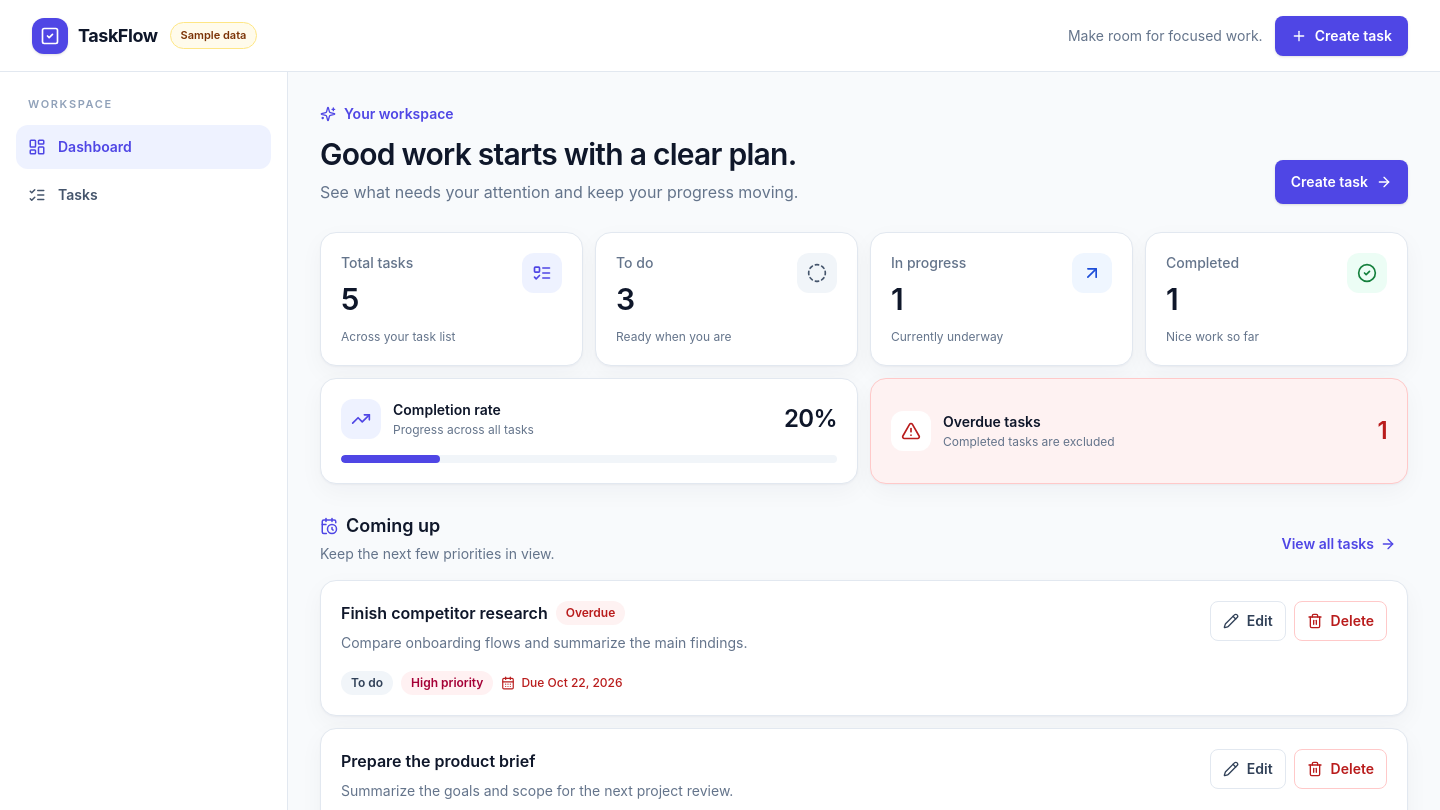
Test case: TaskFlow application › searches by title, applies combined filters, and clears them
expect the heading "Good work starts with a clear plan." is shown: met, box x1=320 y1=136 x2=798 y2=172
Click the link "Tasks" at point(63, 194), box x1=28 y1=186 x2=98 y2=204
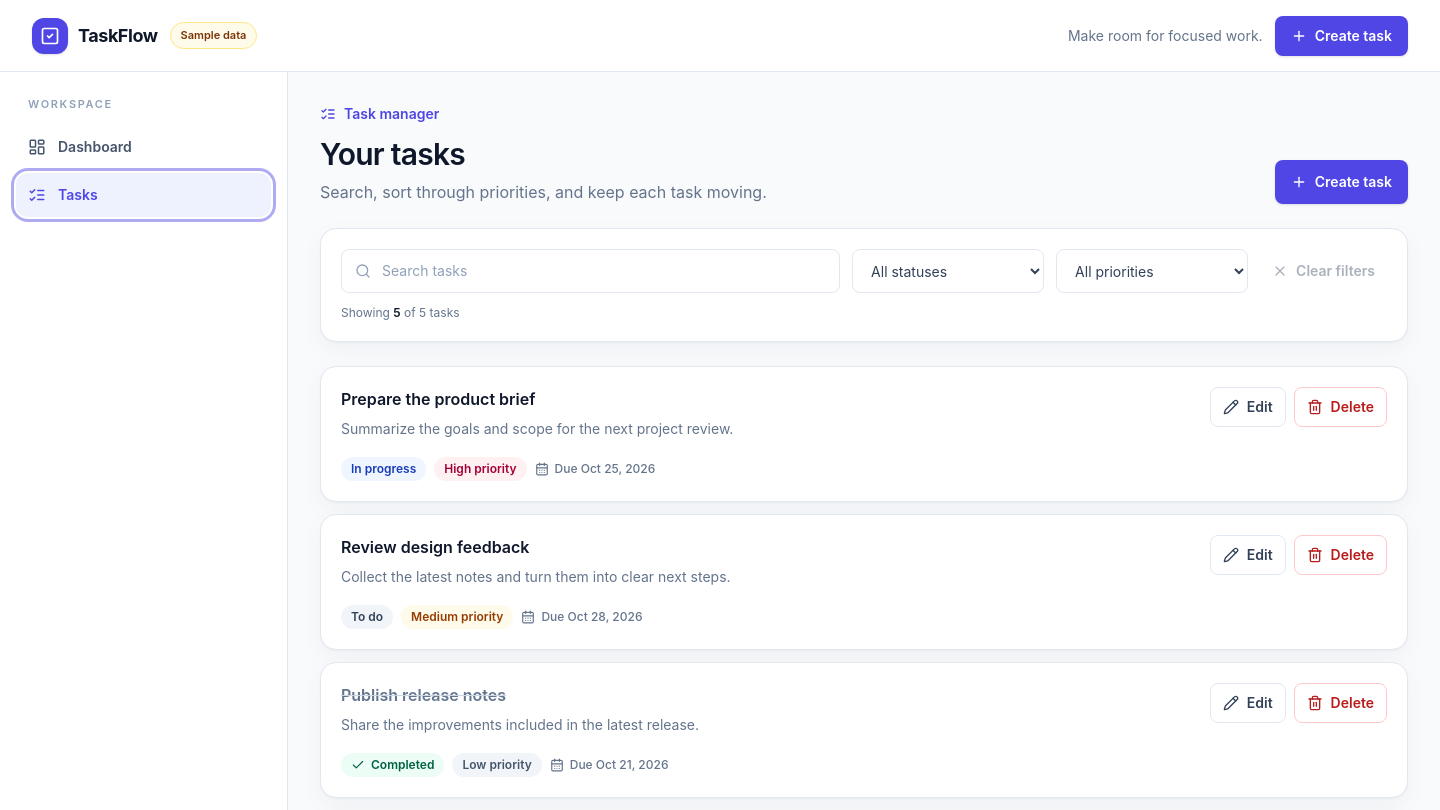
Type "research" into the search field named "Search tasks by title" at point(591, 271), box x1=341 y1=249 x2=840 y2=293
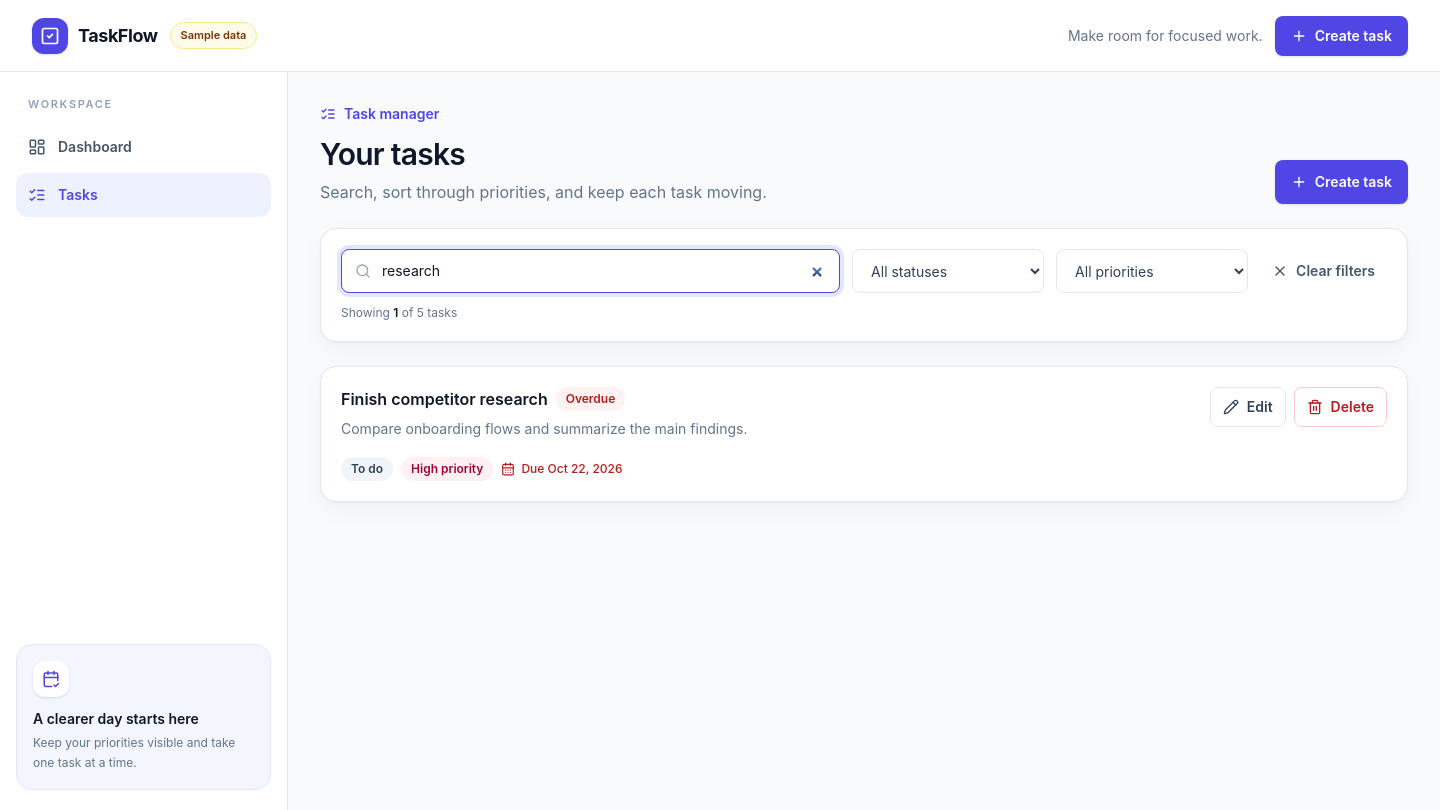
Select "To do" in the 1st dropdown named "Filter by status" at point(948, 271), box x1=852 y1=249 x2=1044 y2=293
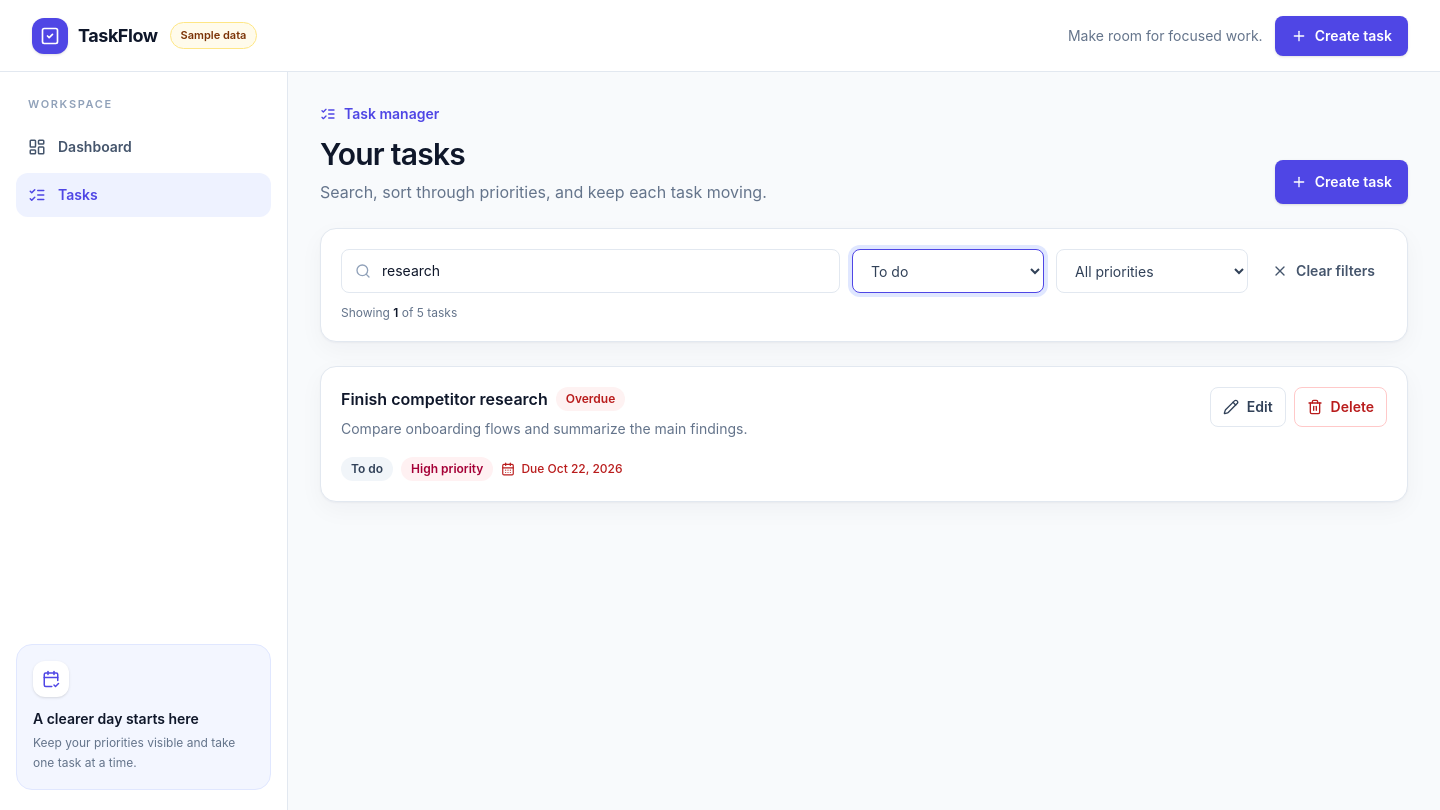
Select "High priority" in the 2nd dropdown named "Filter by priority" at point(1152, 271), box x1=1056 y1=249 x2=1248 y2=293
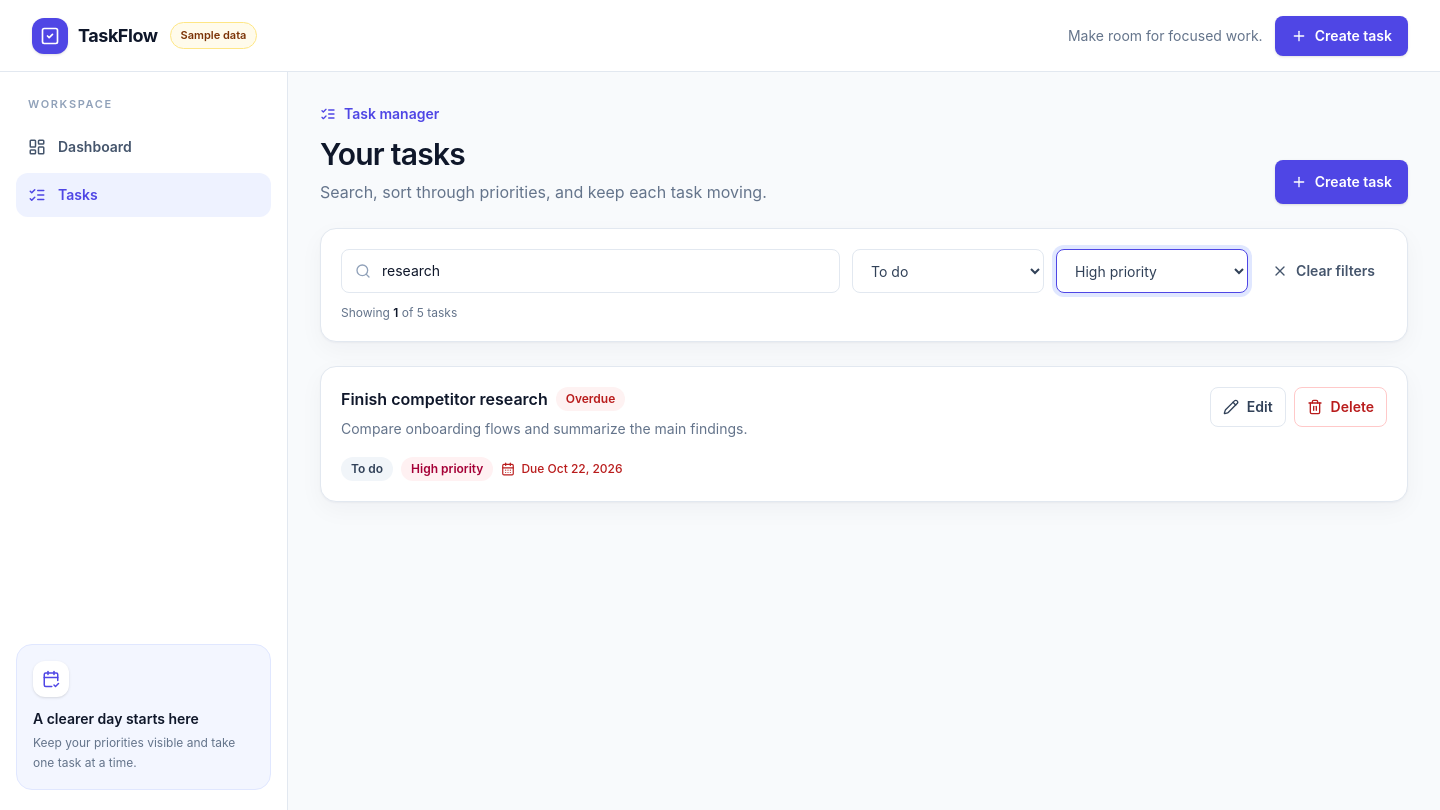
expect the heading "Finish competitor research" is shown: met, box x1=341 y1=387 x2=548 y2=411
expect the heading "Review design feedback" is not shown: met
Click the button "Clear filters" at point(1324, 271), box x1=1260 y1=249 x2=1387 y2=293
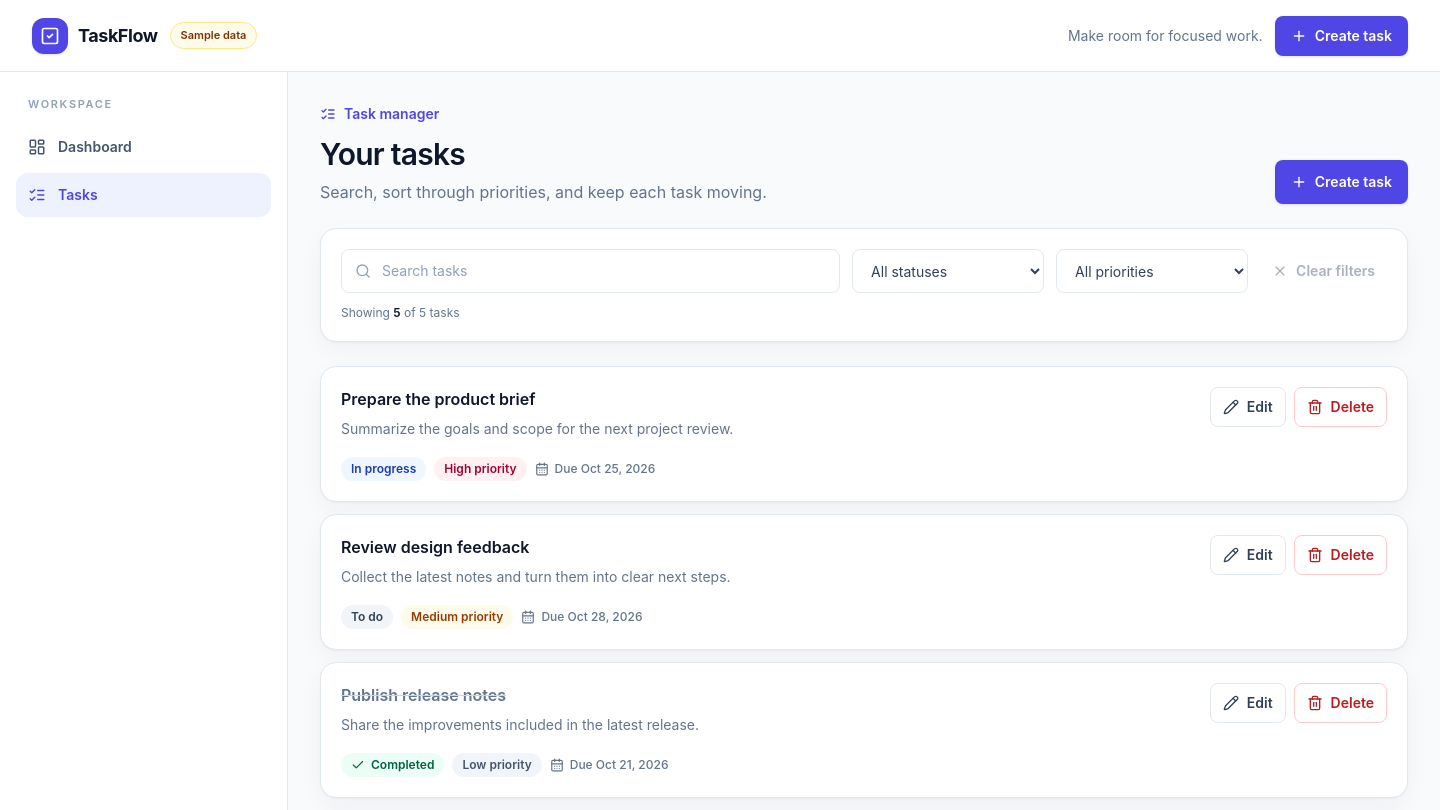
expect the heading "Review design feedback" is shown: met, box x1=341 y1=535 x2=529 y2=559
